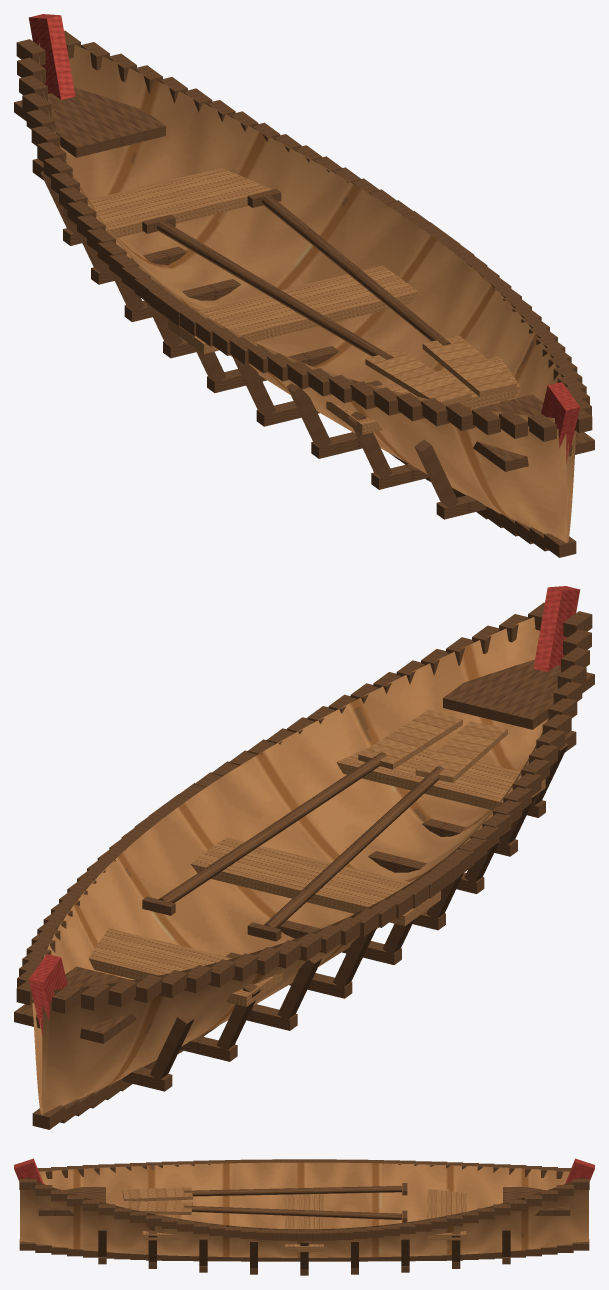
The model's file is sampan.glb.
3 renders of one model, top to bottom at view 1: azimuth 30°, elevation 25°; view 2: azimuth 150°, elevation 25°; view 3: azimuth 270°, elevation 25°, orthographic. The views are drawn at different scales.
Parts seen in each view (by area): view 1: Sampan_Kayu; view 2: Sampan_Kayu; view 3: Sampan_Kayu.
Part boxes in pixels (box(x1,y1,x2,y2)): Sampan_Kayu: box(14, 14, 594, 557); Sampan_Kayu: box(14, 586, 594, 1129); Sampan_Kayu: box(14, 1158, 594, 1275).
Bounding box in the file's own units: 1.17 × 0.7293 × 3.88.
Materials: 1 (1 with a texture image).
